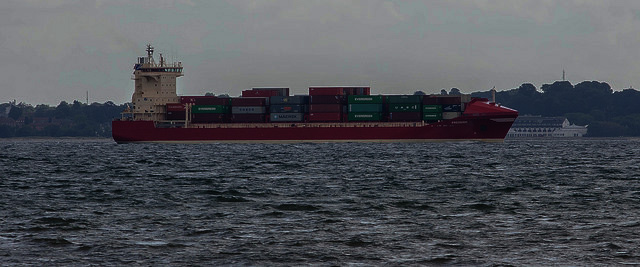container_ship: (113, 44, 519, 142)
